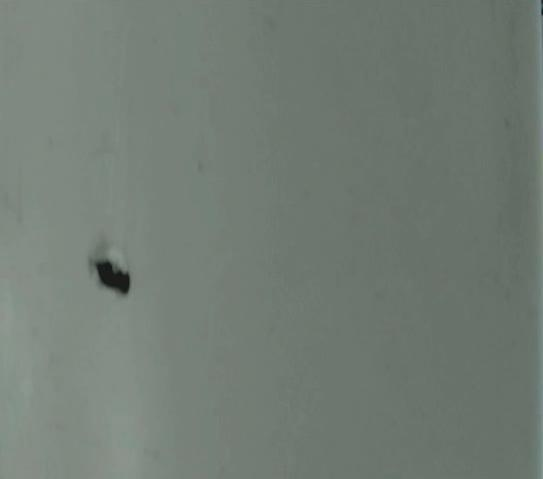kongdong: (86, 247, 132, 300)
